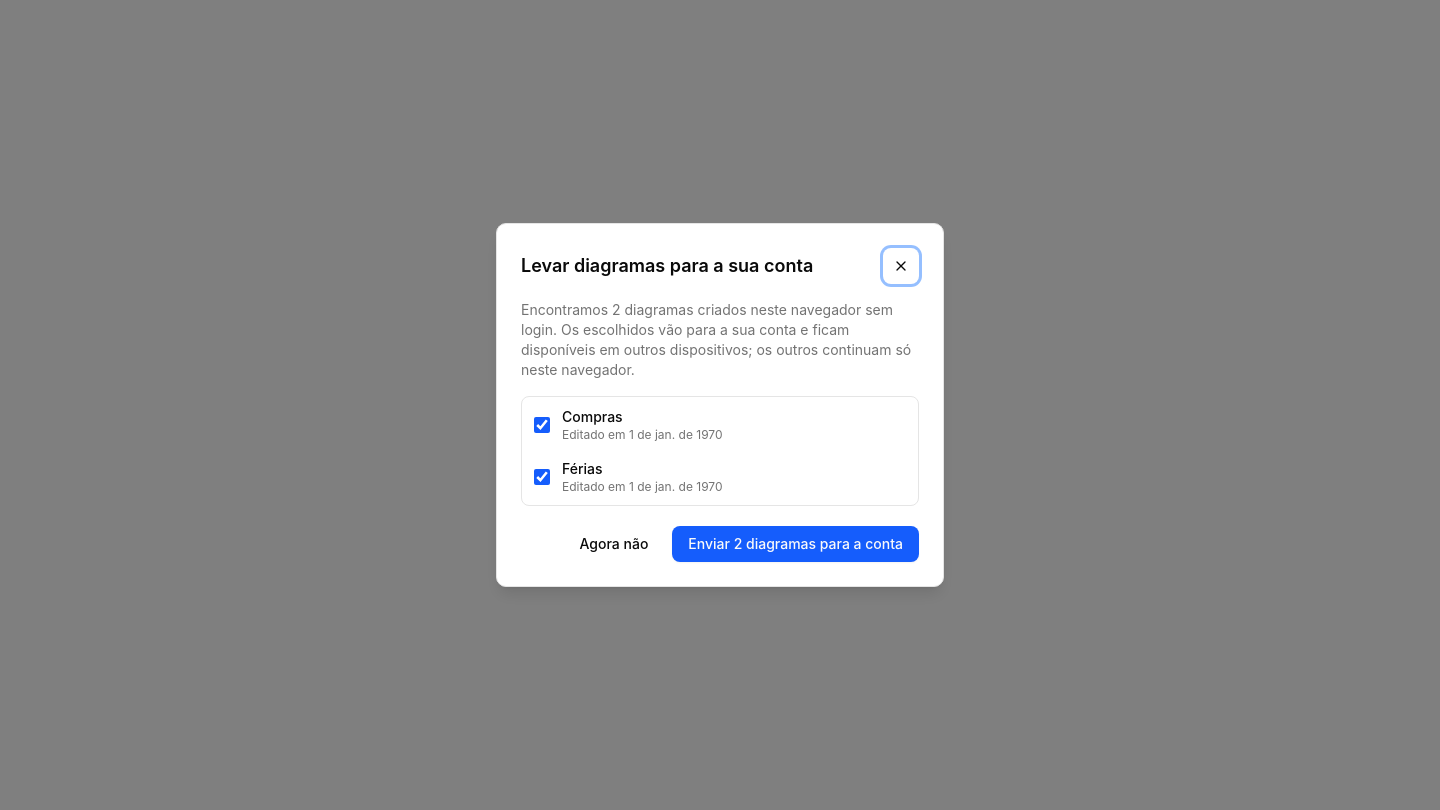
Test: MigrateGuestDiagramsDialog › cannot send when nothing is chosen
Click the checkbox labelled "Compras Editado em 1 de jan. de 1970" at (542, 425), box [534,417,550,433]
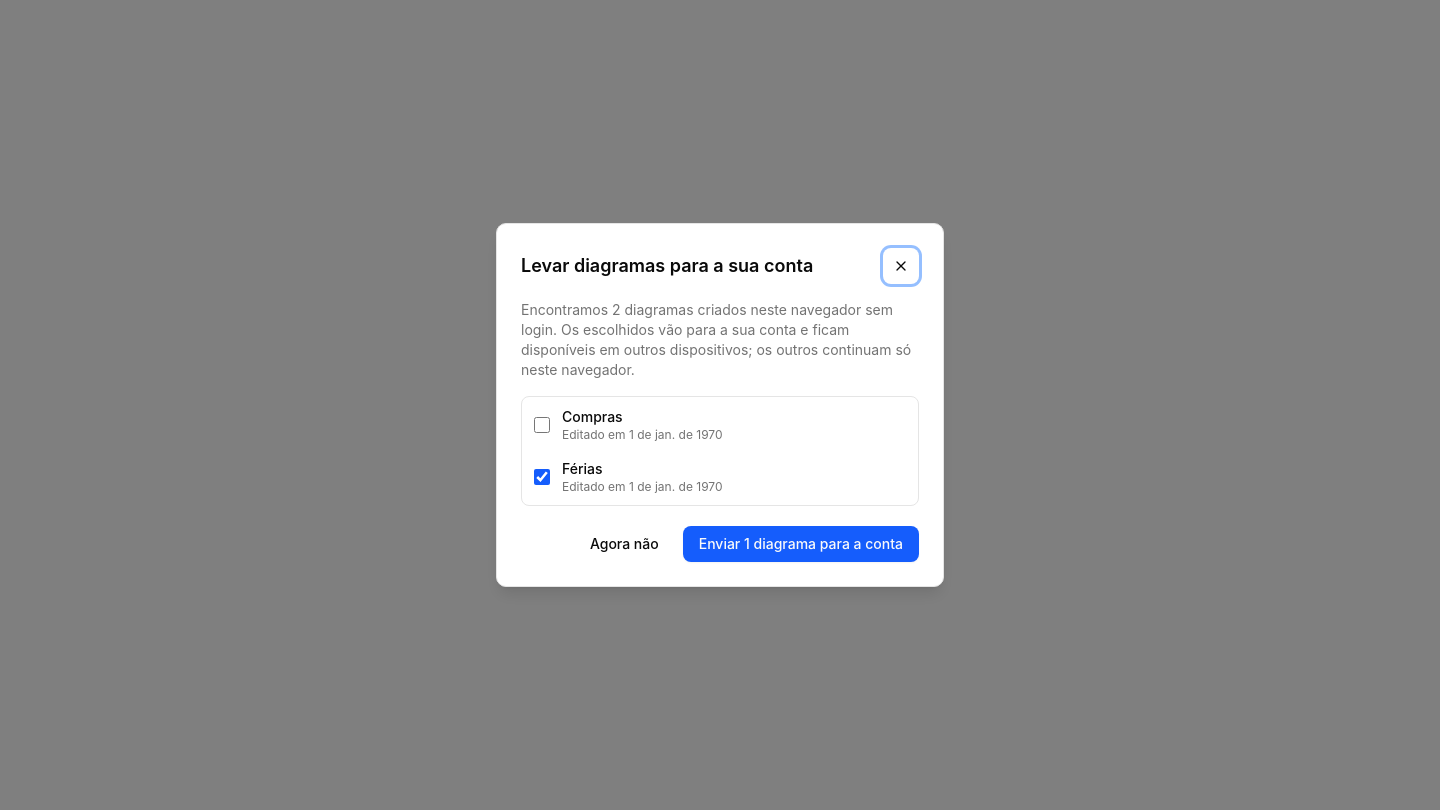
Click the checkbox labelled "Férias Editado em 1 de jan. de 1970" at (542, 477), box [534,469,550,485]
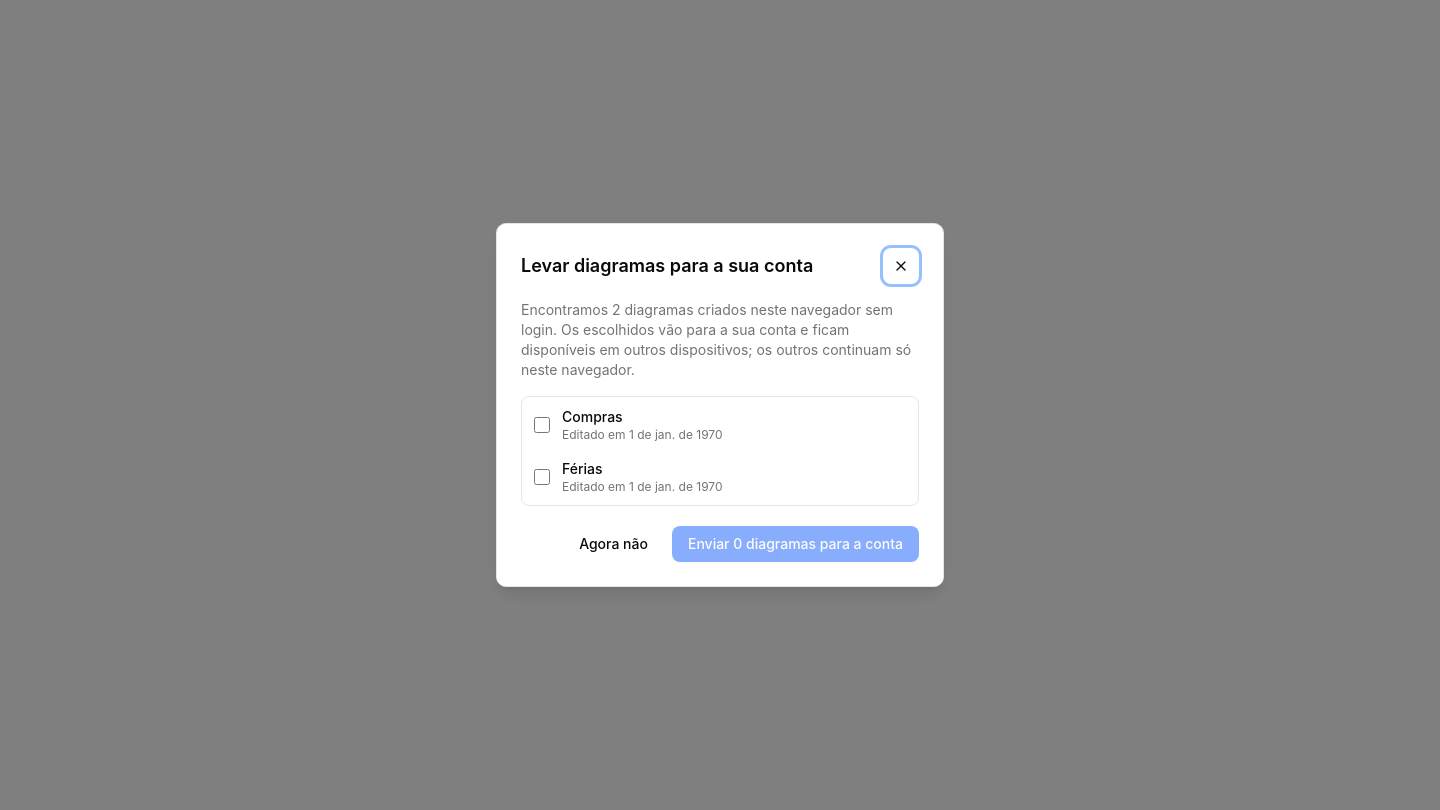
Now the button "Enviar 0 diagramas para a conta" is disabled, box [672,526,919,562]
